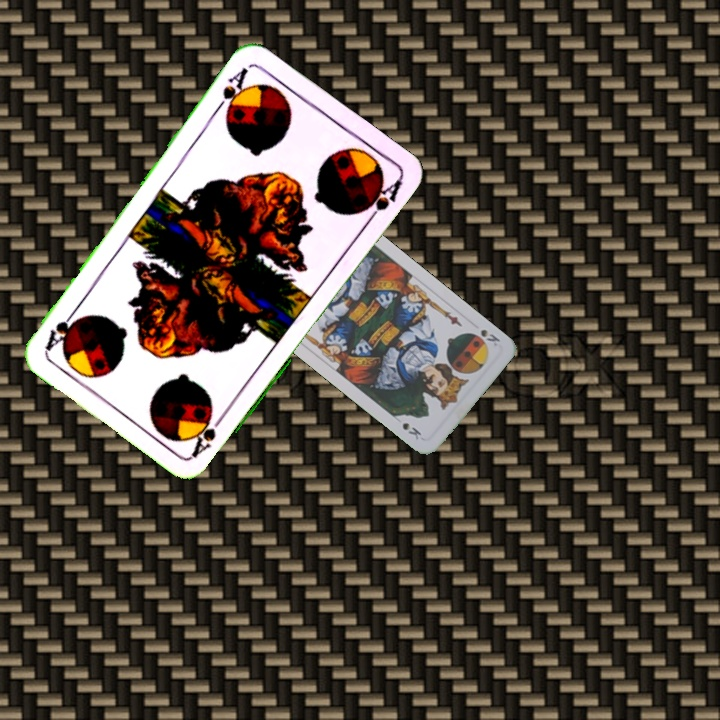SA: (210, 63, 251, 121), (188, 407, 230, 459)
SK: (467, 325, 503, 348)
